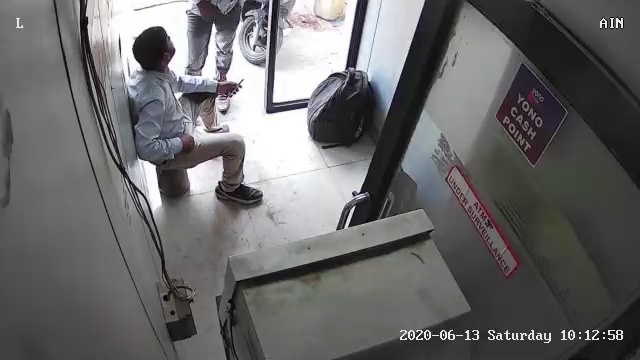open: (119, 1, 372, 136)
